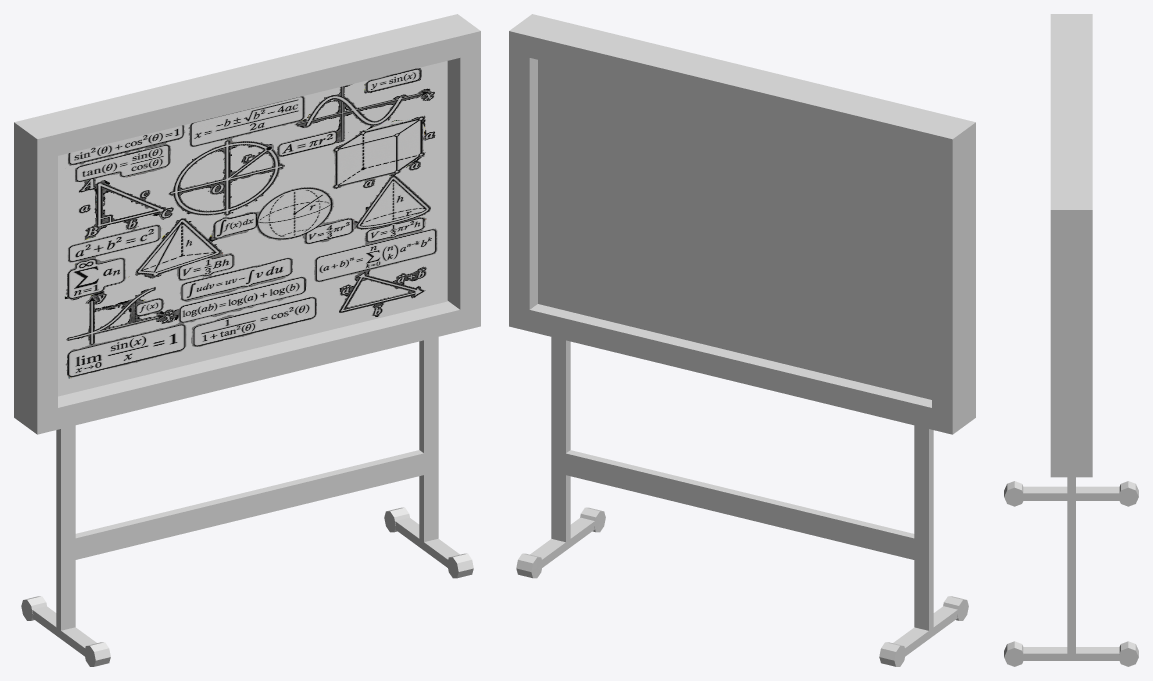
The model's file is Quadro.fbx.
3 views of the same model, side by side, from view 1: azimuth 30°, elevation 25°; view 2: azimuth 150°, elevation 25°; view 3: azimuth 270°, elevation 25° (orthographic). The views are drawn at different scales.
Parts seen in each view (by area): view 1: Partedesenjada, MoldedoQuadro, Quadro; view 2: Plane, MoldedoQuadro, Quadro; view 3: MoldedoQuadro, Quadro.
Part boxes in pixels (box(x1,y1,x2,y2)): Partedesenjada: box(58, 61, 447, 396); MoldedoQuadro: box(14, 14, 480, 434); Quadro: box(21, 337, 473, 666); Plane: box(538, 60, 931, 399); MoldedoQuadro: box(509, 14, 975, 434); Quadro: box(516, 337, 968, 666); MoldedoQuadro: box(1050, 14, 1092, 477); Quadro: box(1004, 477, 1138, 666).
Bounding box in the file's own units: 220 × 247 × 64.
